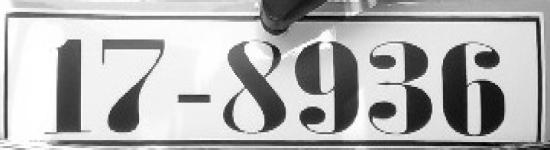-: (175, 85, 219, 114)
1: (42, 31, 93, 138)
3: (364, 32, 435, 134)
6: (434, 29, 518, 142)
7: (92, 26, 171, 138)
8: (220, 27, 290, 136)
9: (290, 25, 364, 138)
